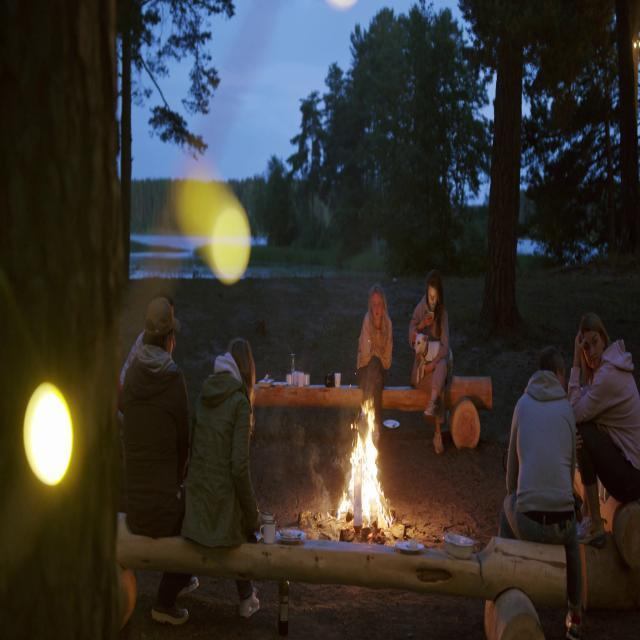Fire: (338, 396, 390, 536)
